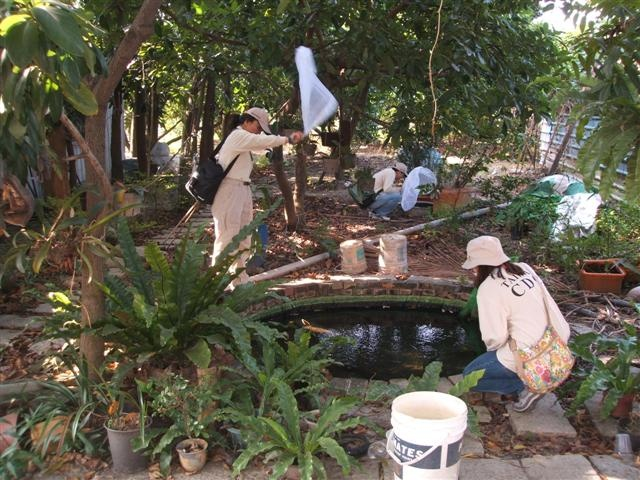box: (578, 258, 626, 294)
bucket: (387, 388, 467, 480), (104, 412, 153, 473), (379, 232, 409, 275), (339, 238, 369, 275)
